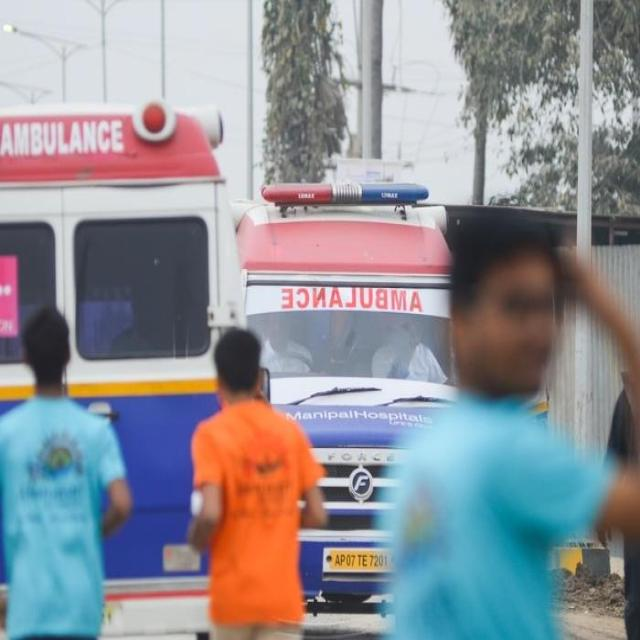emergency: (0, 100, 244, 636), (236, 181, 455, 600)
